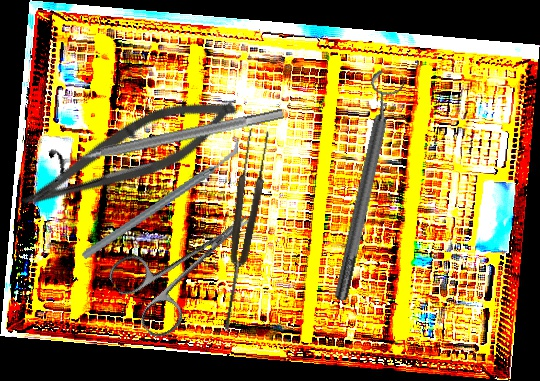Chopper: (66, 137, 258, 260)
Fixation Ring: (47, 95, 288, 186), (321, 67, 409, 305)
Iris Scissors: (103, 184, 277, 344)
Micro Scissor: (11, 75, 247, 238)
Tissue Forceps: (212, 127, 273, 333)
